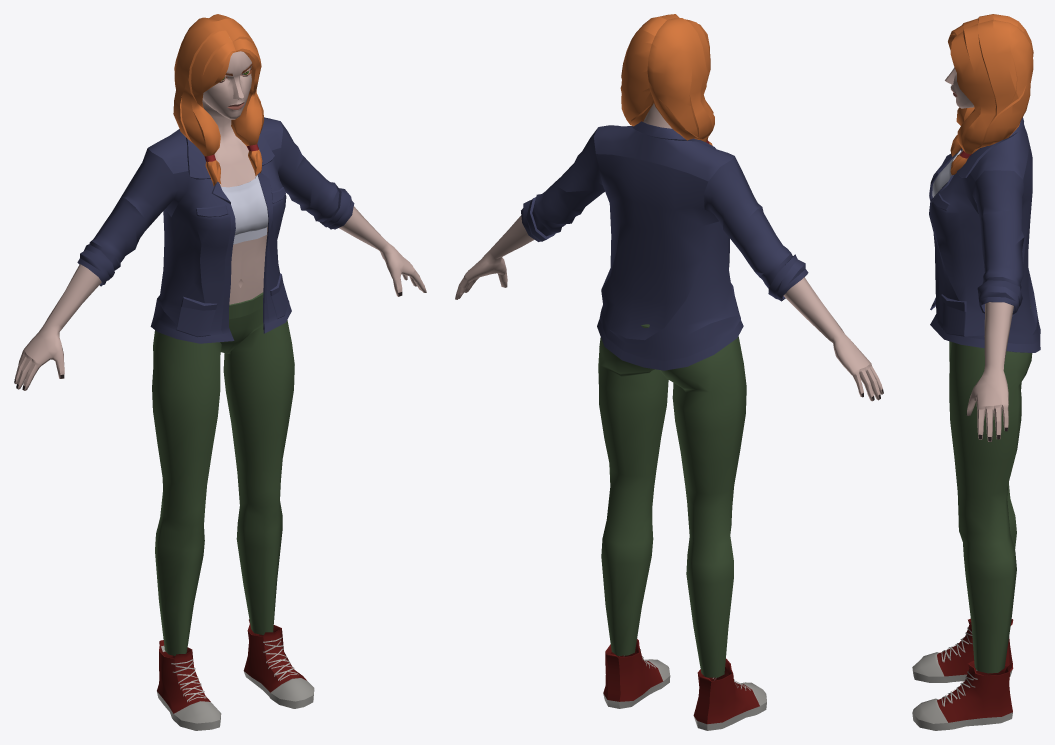
The model's file is female 6.fbx.
3 views of the same model, side by side, from view 1: azimuth 30°, elevation 25°; view 2: azimuth 150°, elevation 25°; view 3: azimuth 270°, elevation 25° (orthographic). The views are drawn at different scales.
Parts seen in each view (by area): view 1: 818; view 2: 818; view 3: 818.
Boxes of the visible parts, x1,y1,x2,y2 form: 818: (14,14,426,730); 818: (455,14,883,730); 818: (912,14,1040,730).
Bounding box in the file's own units: 1.17 × 1.84 × 0.3147.
